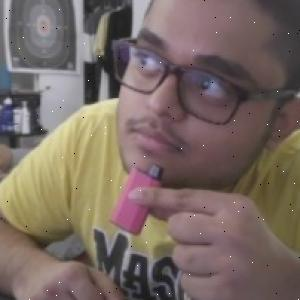Blume-E-Ciggirate: (108, 161, 165, 237)
